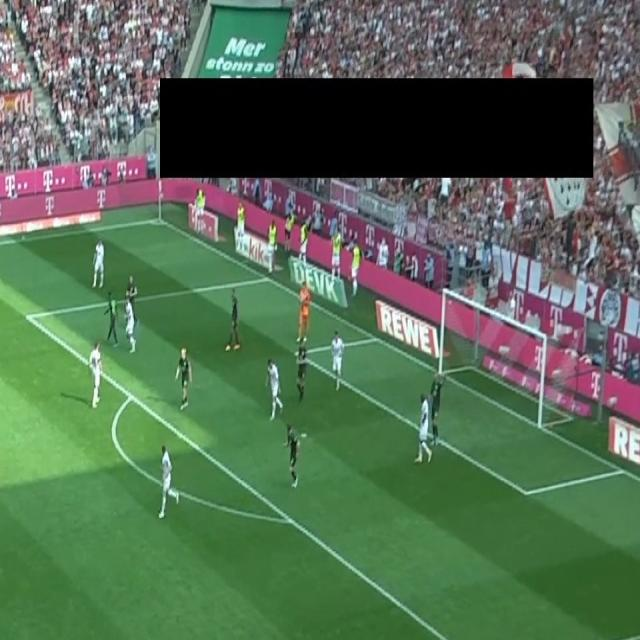ball: (300, 295, 304, 305)
